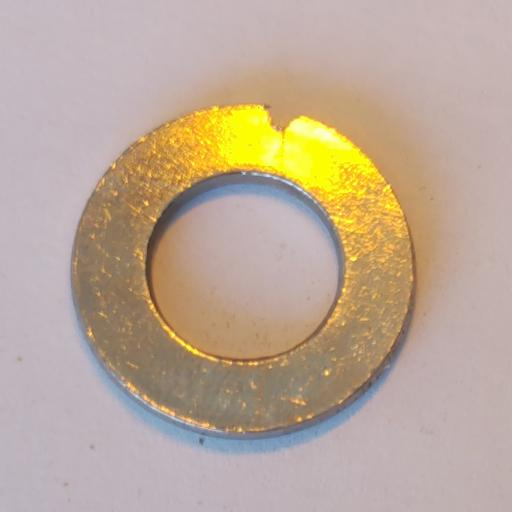burr: (262, 103, 301, 133)
